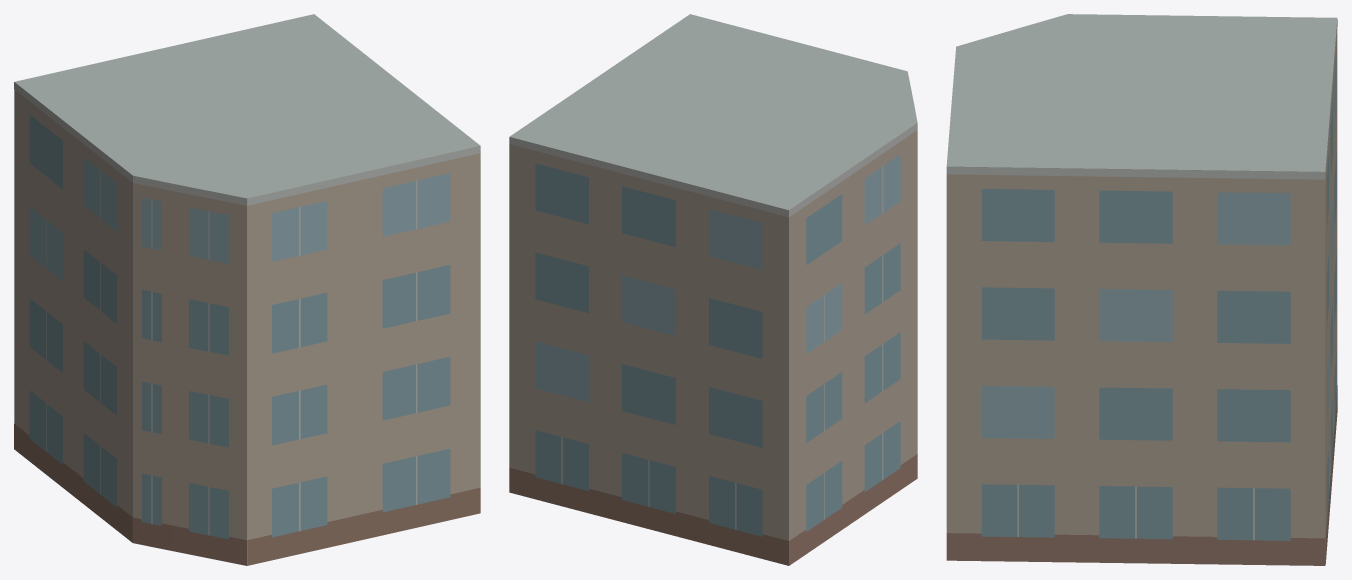
Rendered from residential-ca84d4e7-3e64-4d6f-b005-fe440593dc76.glb.
3 renders of one model, left to right at view 1: azimuth 30°, elevation 25°; view 2: azimuth 150°, elevation 25°; view 3: azimuth 270°, elevation 25°, orthographic. The views are drawn at different scales.
Parts seen in each view (by area): view 1: residential-ca84d4e7-3e64-4d6f-b005-fe440593dc76.tmp; view 2: residential-ca84d4e7-3e64-4d6f-b005-fe440593dc76.tmp; view 3: residential-ca84d4e7-3e64-4d6f-b005-fe440593dc76.tmp.
Boxes of the visible parts, bbox=[...] form: residential-ca84d4e7-3e64-4d6f-b005-fe440593dc76.tmp: bbox=[14, 14, 480, 565]; residential-ca84d4e7-3e64-4d6f-b005-fe440593dc76.tmp: bbox=[509, 14, 917, 565]; residential-ca84d4e7-3e64-4d6f-b005-fe440593dc76.tmp: bbox=[946, 14, 1337, 565].
Size of the model in its own units: 10.49 by 12.2 by 10.98.
